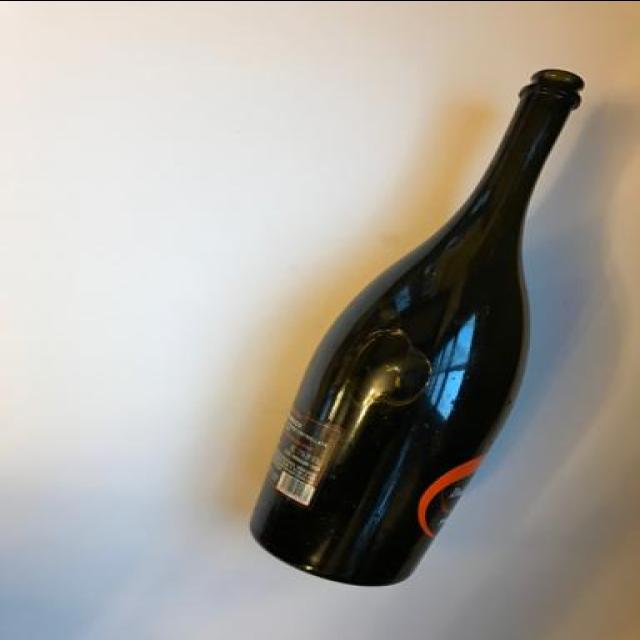glass: (249, 69, 587, 587)
